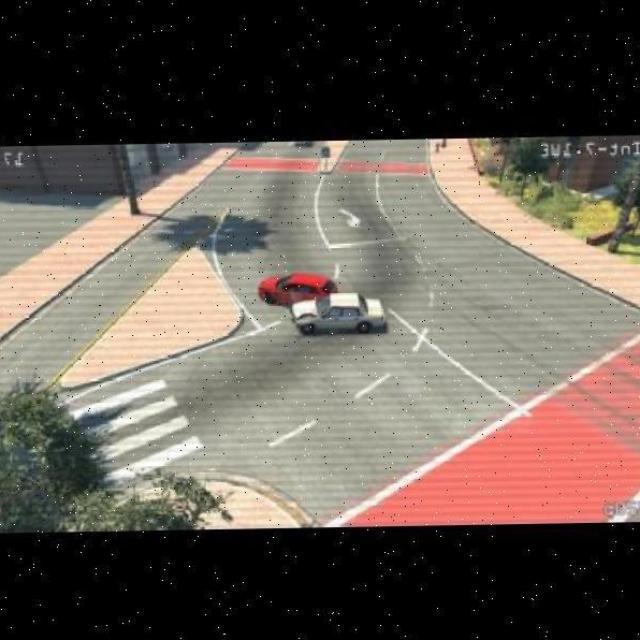accident: (253, 268, 393, 344)
